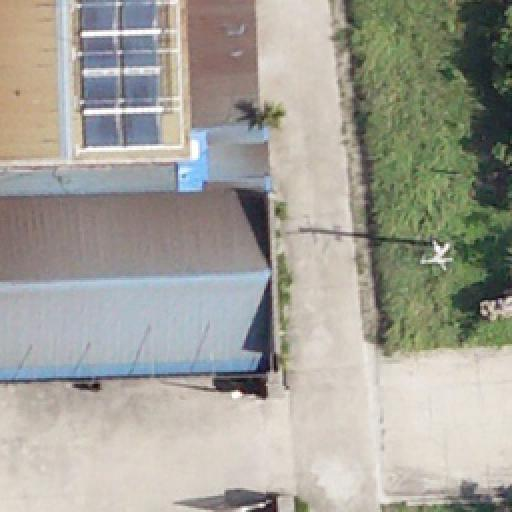solar-panel: (79, 0, 161, 144)
